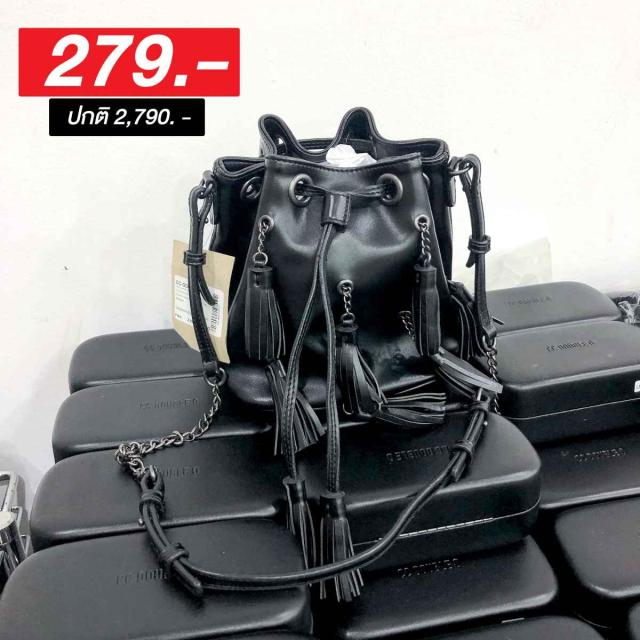Handbag: (193, 102, 501, 432)
